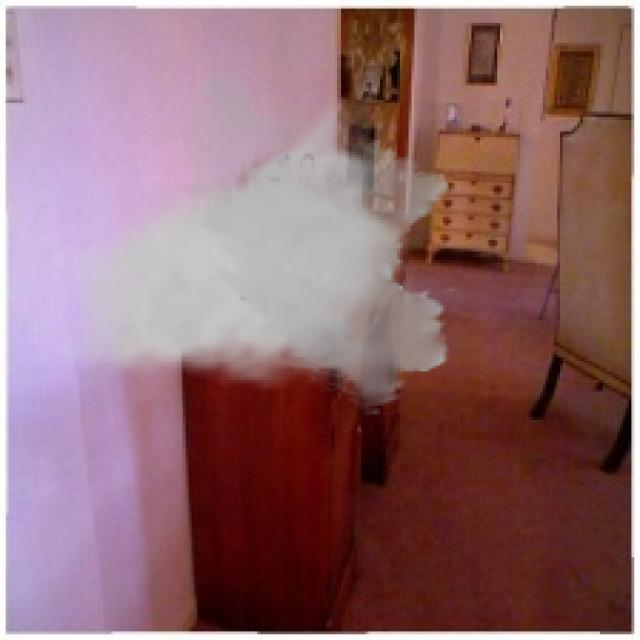Smoke: (54, 62, 460, 418)
